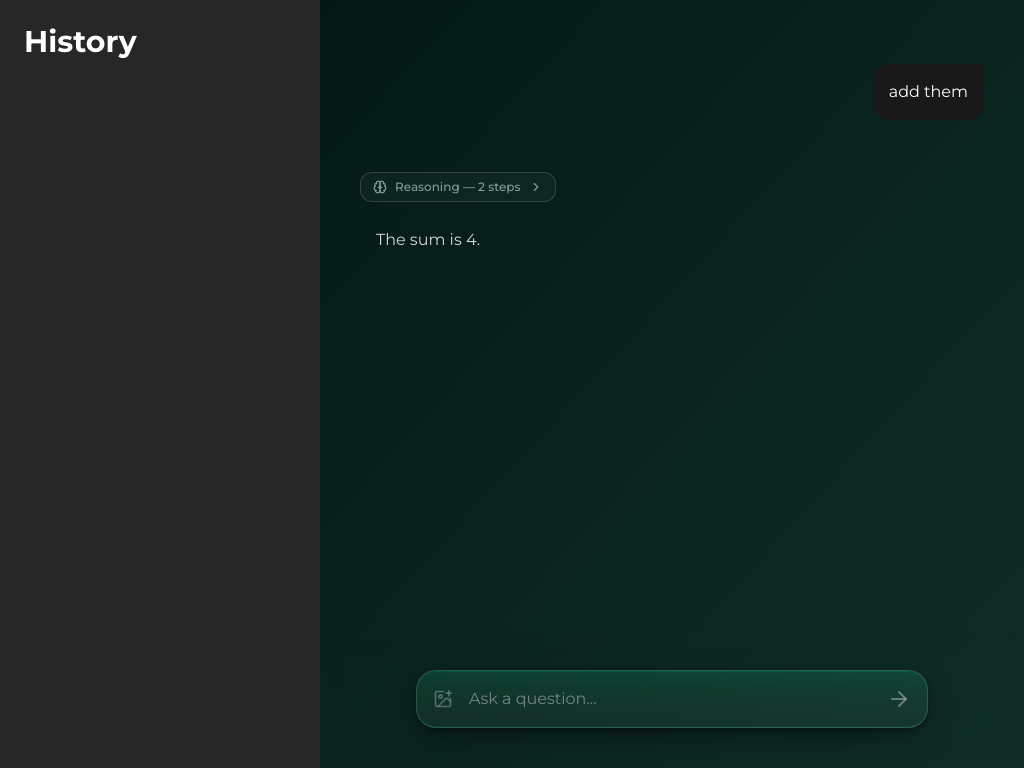
Test case: persisted trace replay (#90) › shows the (earlier steps elided) note when the trace begins with a truncated marker
Click the button "Reasoning — 2 steps" at (458, 187), box [361,173,554,201]
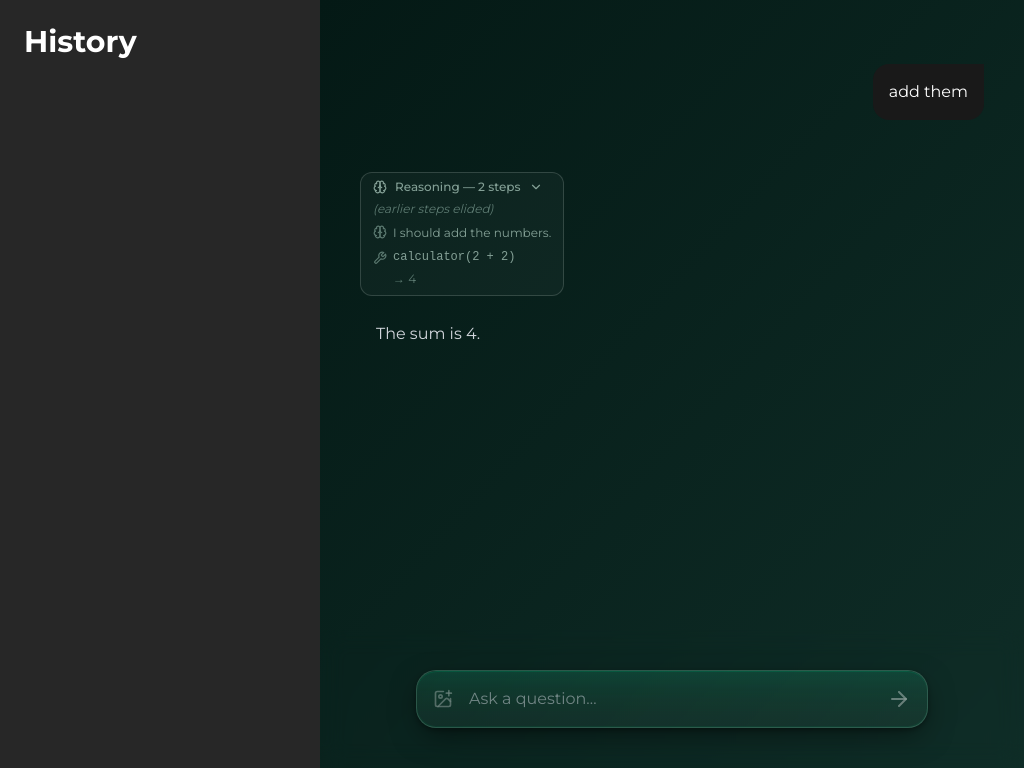
Expected: the text "(earlier steps elided)" is shown, [373,201,494,216]
